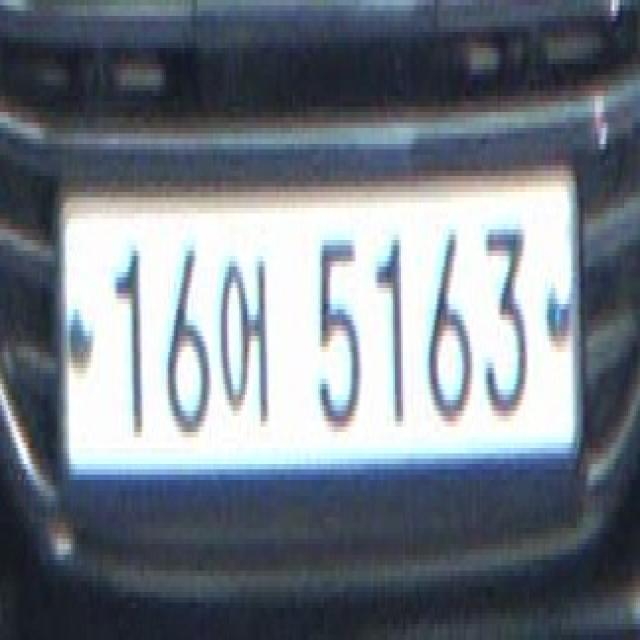plat: (54, 163, 584, 486)
